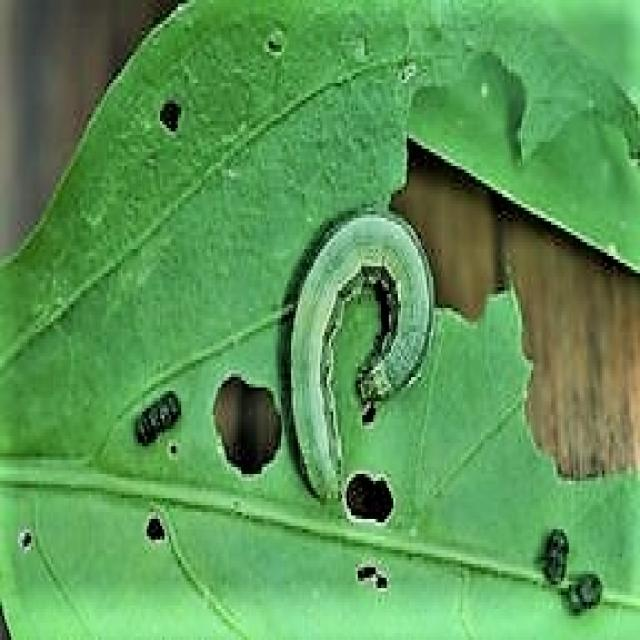armyworm: (288, 198, 431, 500)
